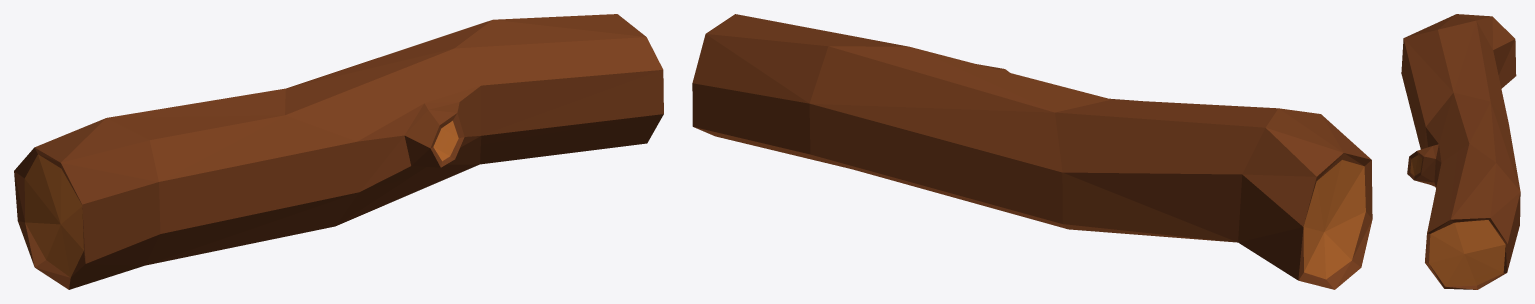
The model's file is log.glb.
3 views of the same model, side by side, from view 1: azimuth 30°, elevation 25°; view 2: azimuth 150°, elevation 25°; view 3: azimuth 270°, elevation 25° (orthographic). The views are drawn at different scales.
Parts seen in each view (by area): view 1: log; view 2: log; view 3: log.
Boxes of the visible parts, box(x1,y1,x2,y2) form: log: box(14, 14, 663, 289); log: box(692, 14, 1372, 289); log: box(1401, 14, 1520, 289).
Bounding box in the file's own units: 20.23 × 4.6 × 5.09.
1 material, 1 textured.
